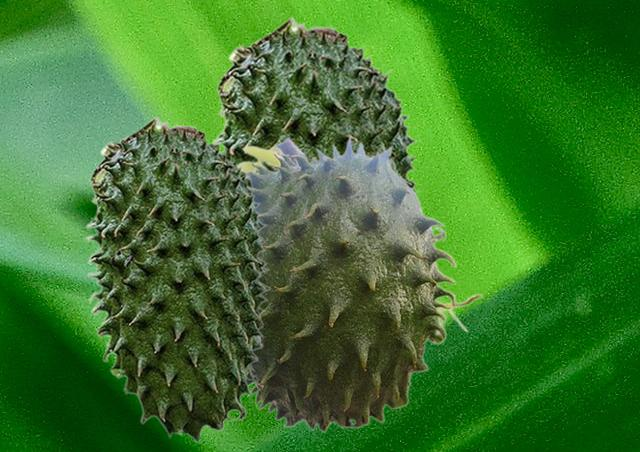guyabano: (238, 133, 483, 433), (84, 115, 271, 442), (211, 15, 422, 196)
